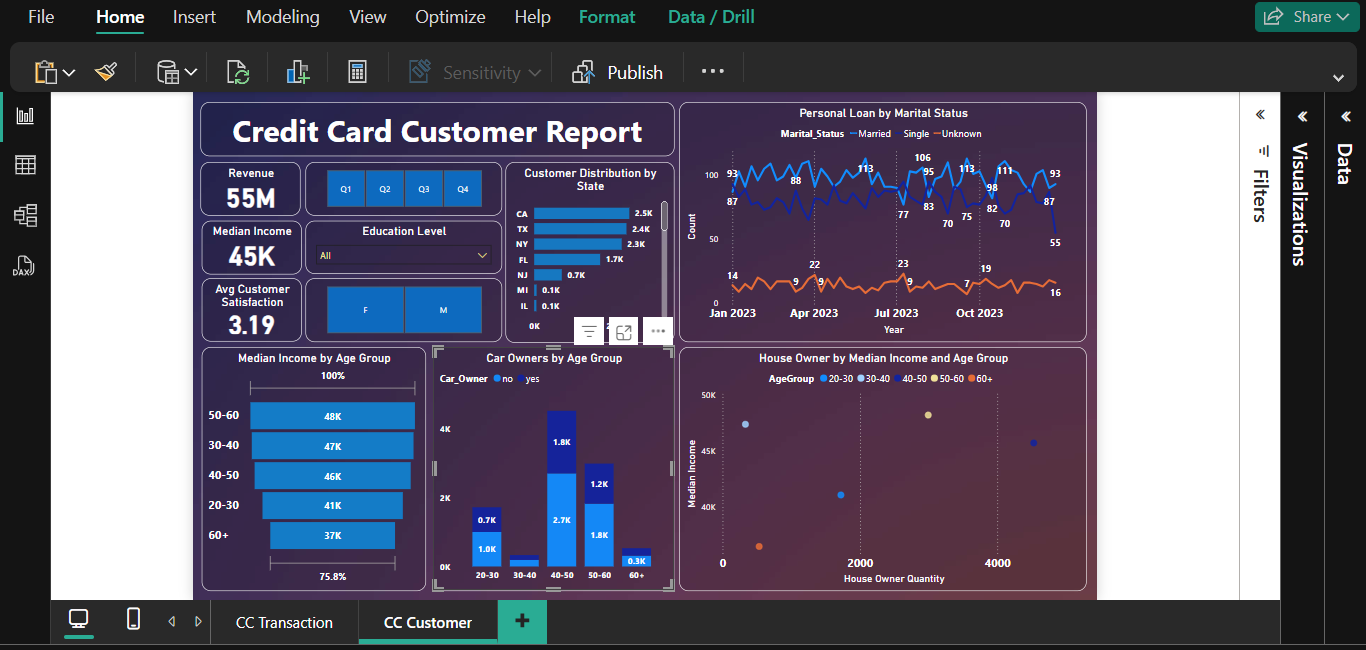

Layout of this report page (visuals, bound fields, positions):
{"tool":"powerbi","page":{"name":"CC Customer","canvas":[1280,720],"ordinal":1},"visuals":[{"type":"textbox","box":[10.6,14,671,77],"z":0},{"type":"card","title":"Revenue","fields":{"Values":["Sum(ccdb cc_details.Revenue)"]},"box":[11,99,141.9,75.8],"z":1000},{"type":"card","title":"Median Income","fields":{"Values":["Median(ccdb cust_detail.Income)"]},"box":[11.7,182,141.9,75.8],"z":2000},{"type":"card","title":"Avg Customer Satisfaction","fields":{"Values":["Avg(ccdb cust_detail.Cust_Satisfaction_Score)"]},"box":[11.7,264.4,141.9,89.4],"z":3000},{"type":"slicer","title":"Education Level","fields":{"Values":["ccdb cust_detail.Education_Level"]},"box":[159.4,182,278,75],"z":4000},{"type":"slicer","fields":{"Values":["ccdb cc_details.Qtr"]},"box":[159.6,98.2,278.4,75.7],"z":5000},{"type":"lineChart","title":"Personal Loan by Marital Status","fields":{"Category":["ccdb cc_details.Week_Start_Date.Variation.Date Hierarchy.Year","ccdb cc_details.Week_Start_Date.Variation.Date Hierarchy.Month","ccdb cc_details.Week_Start_Date.Variation.Date Hierarchy.Day"],"Y":["CountNonNull(ccdb cust_detail.Personal_Loan)"],"Series":["ccdb cust_detail.Marital_Status"]},"box":[687.7,14.3,577.2,339.8],"z":6000},{"type":"clusteredBarChart","title":"Customer Distribution by State","fields":{"Category":["ccdb cust_detail.State_cd"],"Y":["CountNonNull(ccdb cust_detail.Client_Num)"]},"box":[442.1,98.2,239.5,255.8],"z":7000},{"type":"funnel","title":"Median Income by Age Group","fields":{"Category":["ccdb cust_detail.AgeGroup"],"Y":["Median(ccdb cust_detail.Income)"]},"box":[12.3,360.2,317.2,345.9],"z":8000},{"type":"slicer","fields":{"Values":["ccdb cust_detail.Gender"]},"box":[159.6,264,278.4,90.1],"z":9000},{"type":"scatterChart","title":"House Owner by Median Income and Age Group","fields":{"X":["ccdb cust_detail.House_Owner"],"Series":["ccdb cust_detail.AgeGroup"],"Y":["Median(ccdb cust_detail.Income)"]},"box":[687.7,360.2,577.2,345.9],"z":10000},{"type":"columnChart","fields":{"Category":["ccdb cust_detail.AgeGroup"],"Y":["Median(ccdb cust_detail.Income)"],"Series":["ccdb cust_detail.Car_Owner"]},"box":[339.8,360.2,341.8,345.9],"z":11000}]}

Visuals, with their boxes on the page's 1280x720 design canvas (x1, y1, x2, y2). These are canvas units, not pixel positions in the 1366x650 screenshot, which may show the page scaled, cropped or inside an application window:
textbox: bbox=(11, 14, 682, 91)
"Revenue" card: bbox=(11, 99, 153, 175)
"Median Income" card: bbox=(12, 182, 154, 258)
"Avg Customer Satisfaction" card: bbox=(12, 264, 154, 354)
"Education Level" slicer: bbox=(159, 182, 437, 257)
slicer - ccdb cc_details.Qtr: bbox=(160, 98, 438, 174)
"Personal Loan by Marital Status" lineChart: bbox=(688, 14, 1265, 354)
"Customer Distribution by State" clusteredBarChart: bbox=(442, 98, 682, 354)
"Median Income by Age Group" funnel: bbox=(12, 360, 330, 706)
slicer - ccdb cust_detail.Gender: bbox=(160, 264, 438, 354)
"House Owner by Median Income and Age Group" scatterChart: bbox=(688, 360, 1265, 706)
columnChart - ccdb cust_detail.AgeGroup x Median(ccdb cust_detail.Income): bbox=(340, 360, 682, 706)
